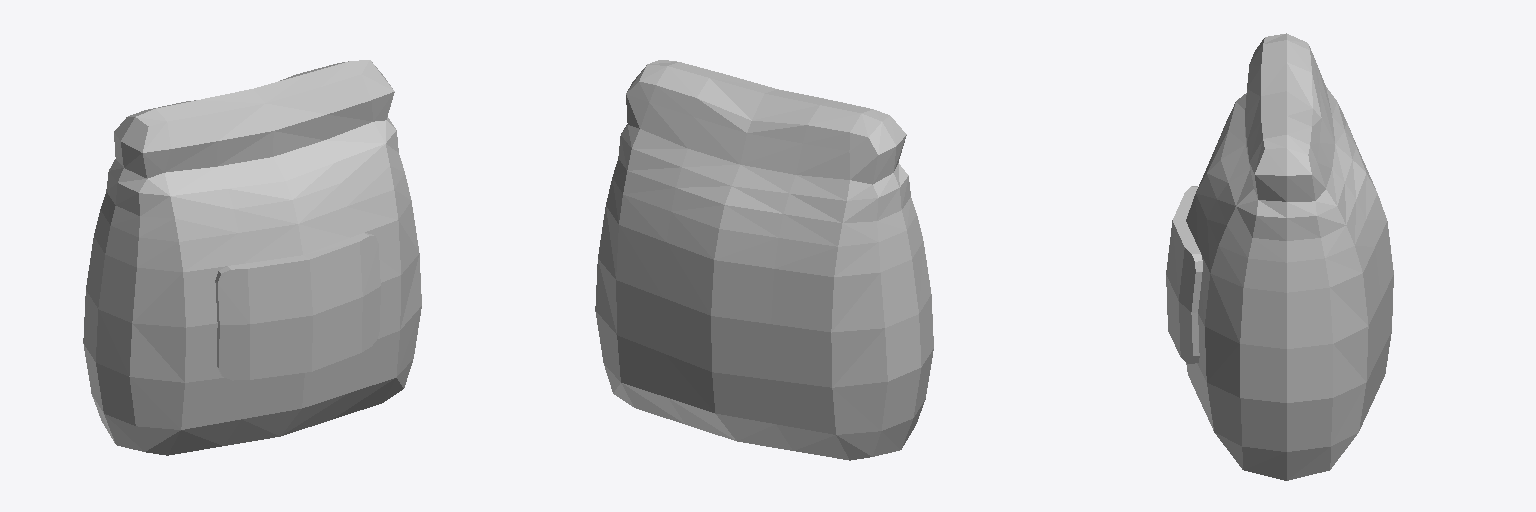
Rendered from flour_sack_closed.obj.
3 renders of one model, left to right at view 1: azimuth 30°, elevation 25°; view 2: azimuth 150°, elevation 25°; view 3: azimuth 270°, elevation 25°, orthographic.
Visible parts, largest first — view 1: flour_sack_closed; view 2: flour_sack_closed; view 3: flour_sack_closed.
Boxes of the visible parts, x1=… form: flour_sack_closed: x1=83, y1=60, x2=421, y2=455; flour_sack_closed: x1=595, y1=60, x2=933, y2=460; flour_sack_closed: x1=1166, y1=33, x2=1393, y2=480.
Bounding box in the file's own units: 0.5338 × 0.5485 × 0.3359.